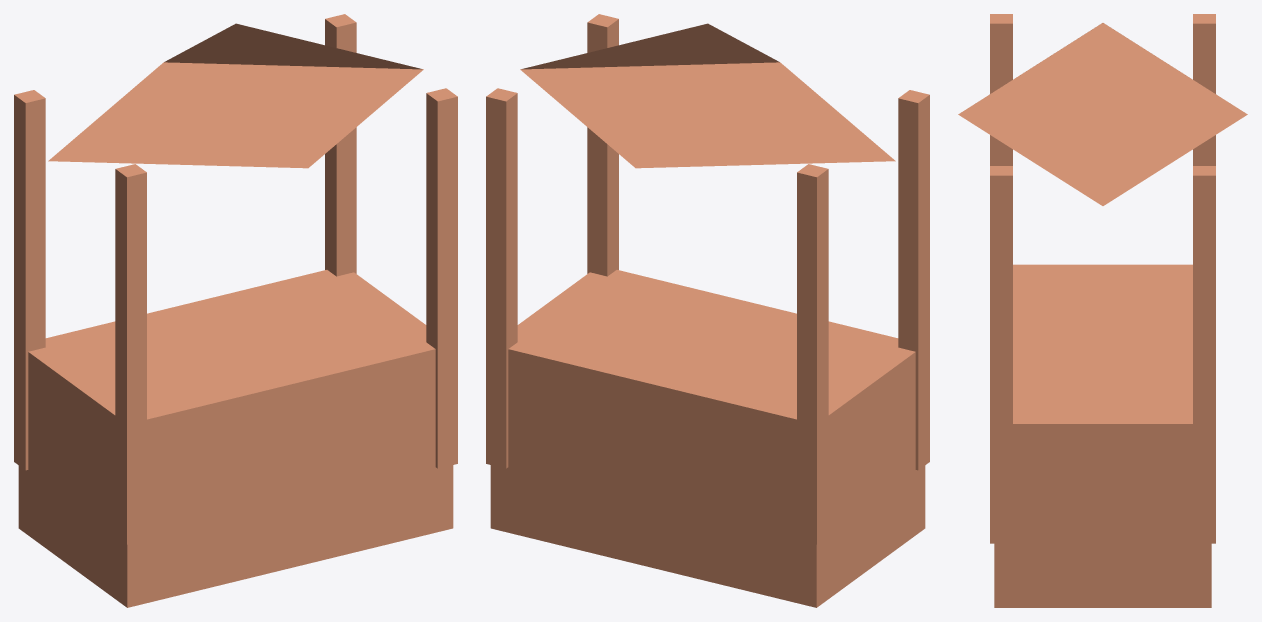
The model's file is MarketStall.glb.
3 views of the same model, side by side, from view 1: azimuth 30°, elevation 25°; view 2: azimuth 150°, elevation 25°; view 3: azimuth 270°, elevation 25° (orthographic).
Parts seen in each view (by area): view 1: filler_MarketStall; view 2: filler_MarketStall; view 3: filler_MarketStall.
Part boxes in pixels (x1,y1,x2,y2): filler_MarketStall: [14, 14, 457, 607]; filler_MarketStall: [486, 14, 929, 607]; filler_MarketStall: [958, 14, 1247, 607].
Bounding box in the file's own units: 1.5 × 1.93 × 1.
